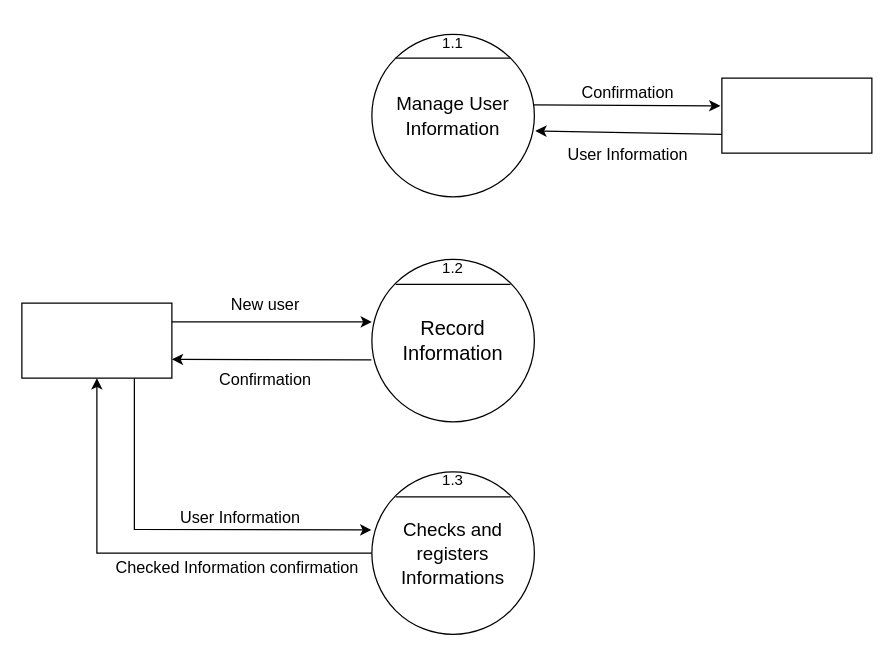
The diagram is 894 pixels wide and 656 high, and some of its shapes have lost their labels. The centre of each missing label's shape, as x and y in pixels:
Admin: the point at 796,115
User: the point at 96,340
